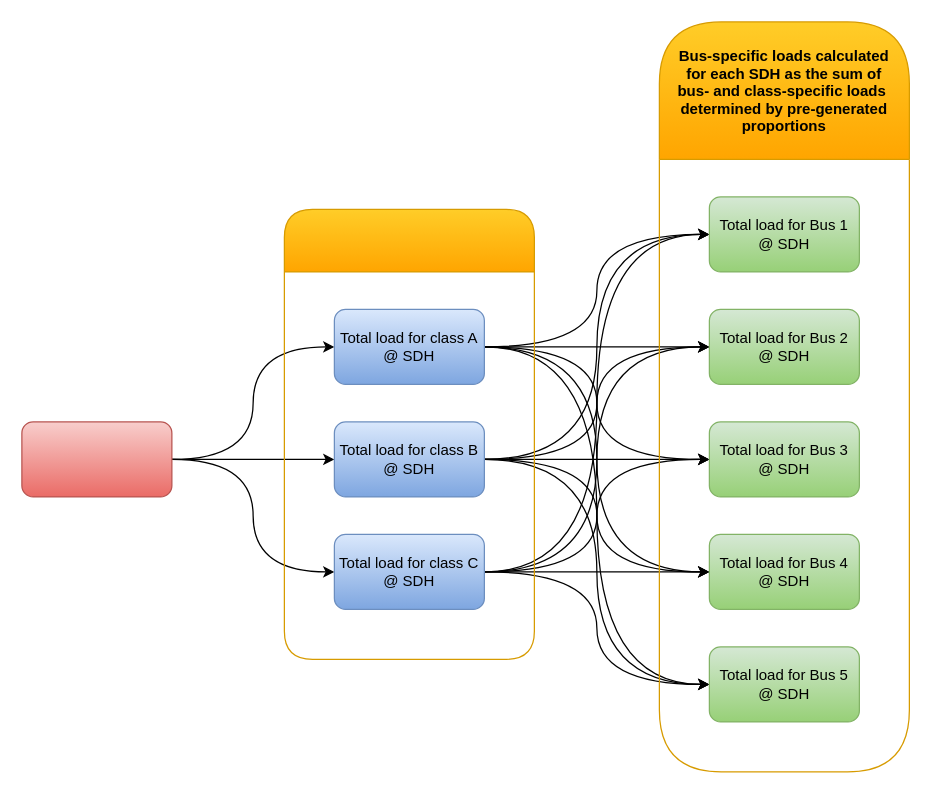
Image size: 931x794. Some labels were removed from this diagram. Here are the shapes that lost their labels. From the top down, the box of each, then its label:
(283, 208, 534, 659): Class-specific loads calculated for each SDH from utility data
(21, 421, 172, 497): Total load @ SDH
